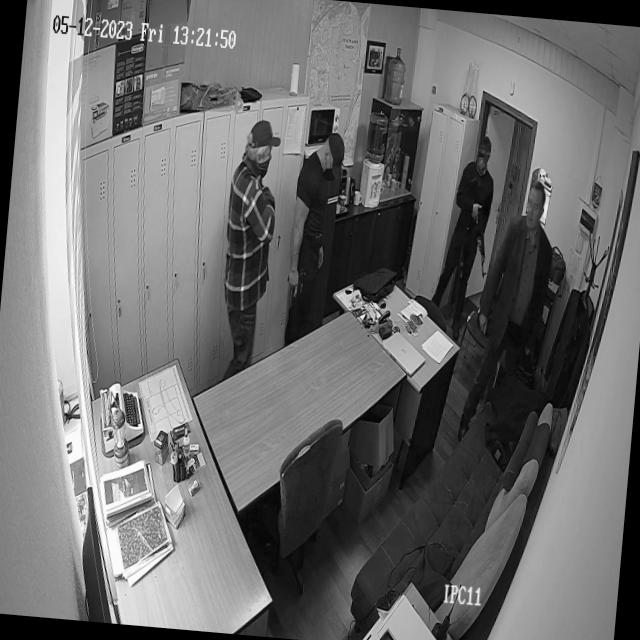gun: (461, 174, 498, 281), (282, 234, 321, 334)
person: (472, 174, 552, 418), (213, 117, 286, 350)
person with a gun: (280, 127, 346, 318), (433, 130, 499, 321)
